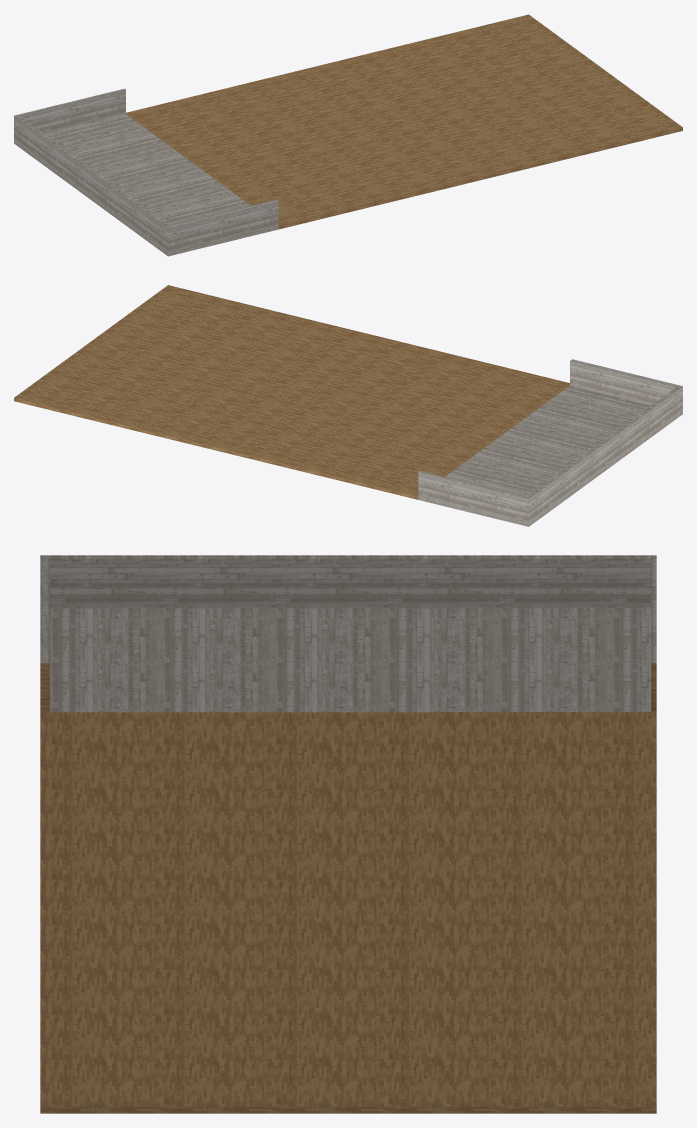
File: Floor_c5023c6b.obj
3 views of the same model, one above another, from view 1: azimuth 30°, elevation 25°; view 2: azimuth 150°, elevation 25°; view 3: azimuth 270°, elevation 25° (orthographic). The views are drawn at different scales.
Visible parts, largest first — view 1: mesh_ad45b1aa; view 2: mesh_ad45b1aa; view 3: mesh_ad45b1aa.
Boxes of the visible parts, <box> form: mesh_ad45b1aa: <box>14,14,682,256</box>; mesh_ad45b1aa: <box>14,285,682,526</box>; mesh_ad45b1aa: <box>40,555,656,1113</box>.
Bounding box in the file's own units: 10.88 × 0.5667 × 5.64.
